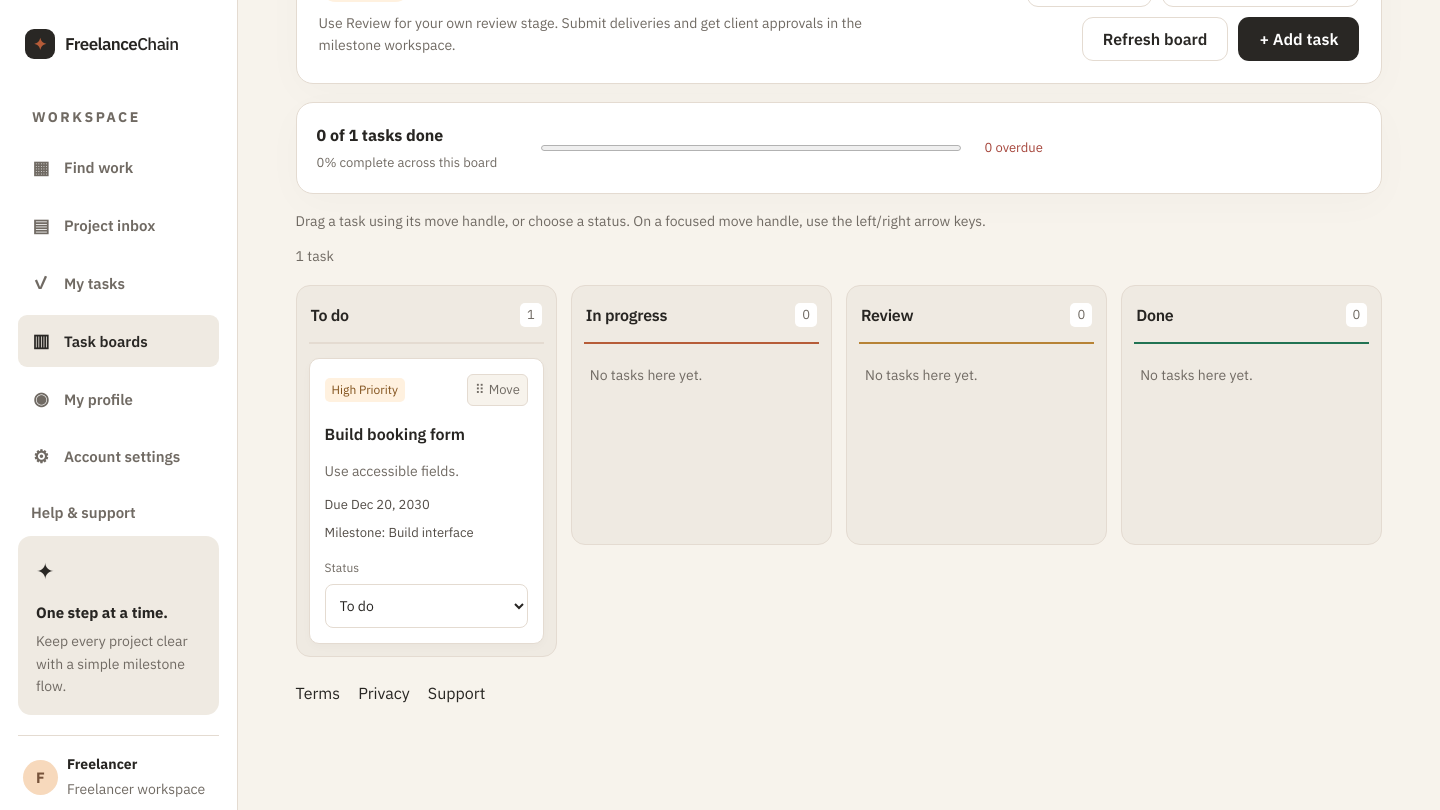
Scenario: private live updates defer while editing and preserve an unsaved draft
The width and height of the screenshot is (1440, 810).
(page scrolled)
Step 1. Click the button "Build booking form" → (426, 434), box [325,418,528,450]
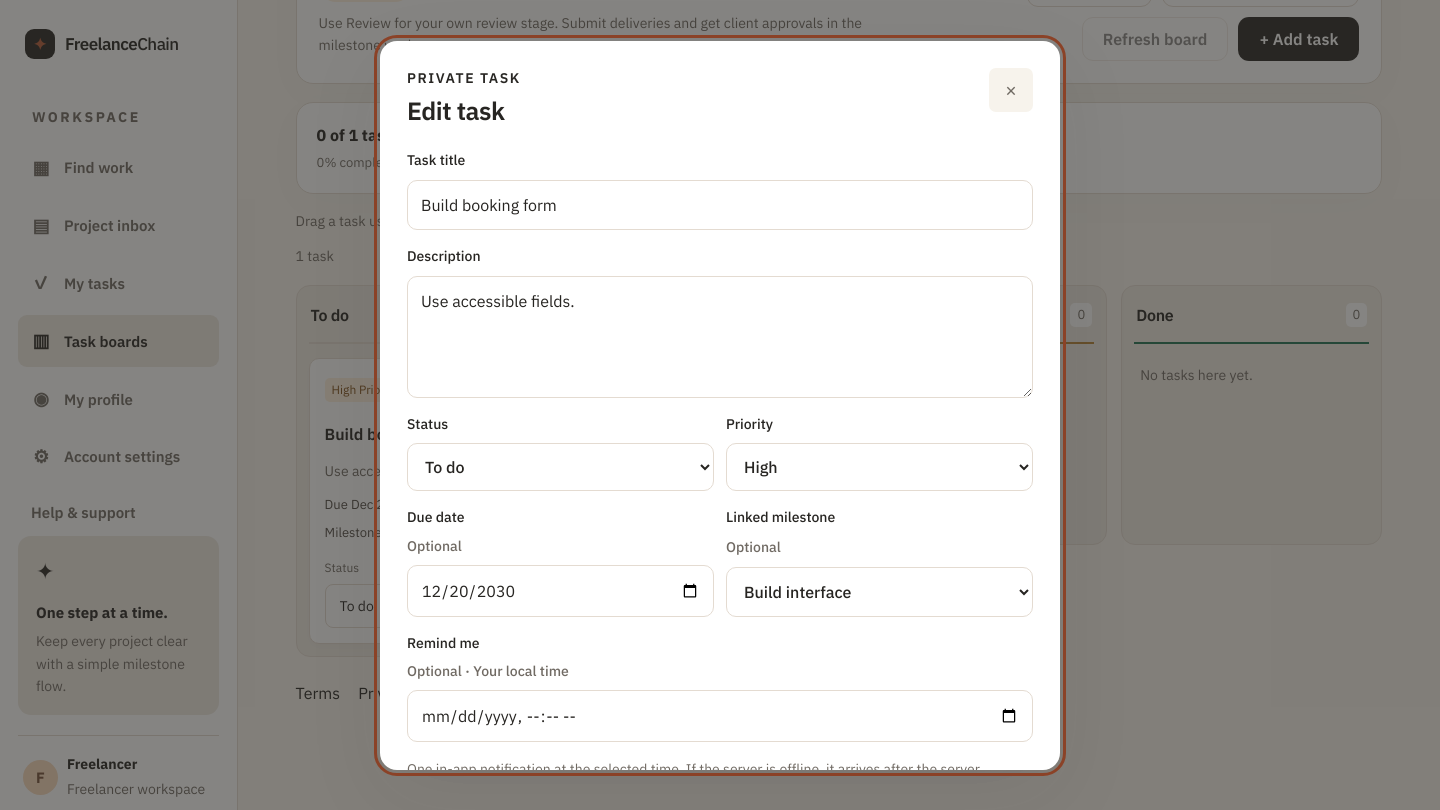
Step 2. Replace the text in the field labelled "Task title" with "My unsaved title" → (720, 205), box [407,180,1033,230]
(page scrolled)
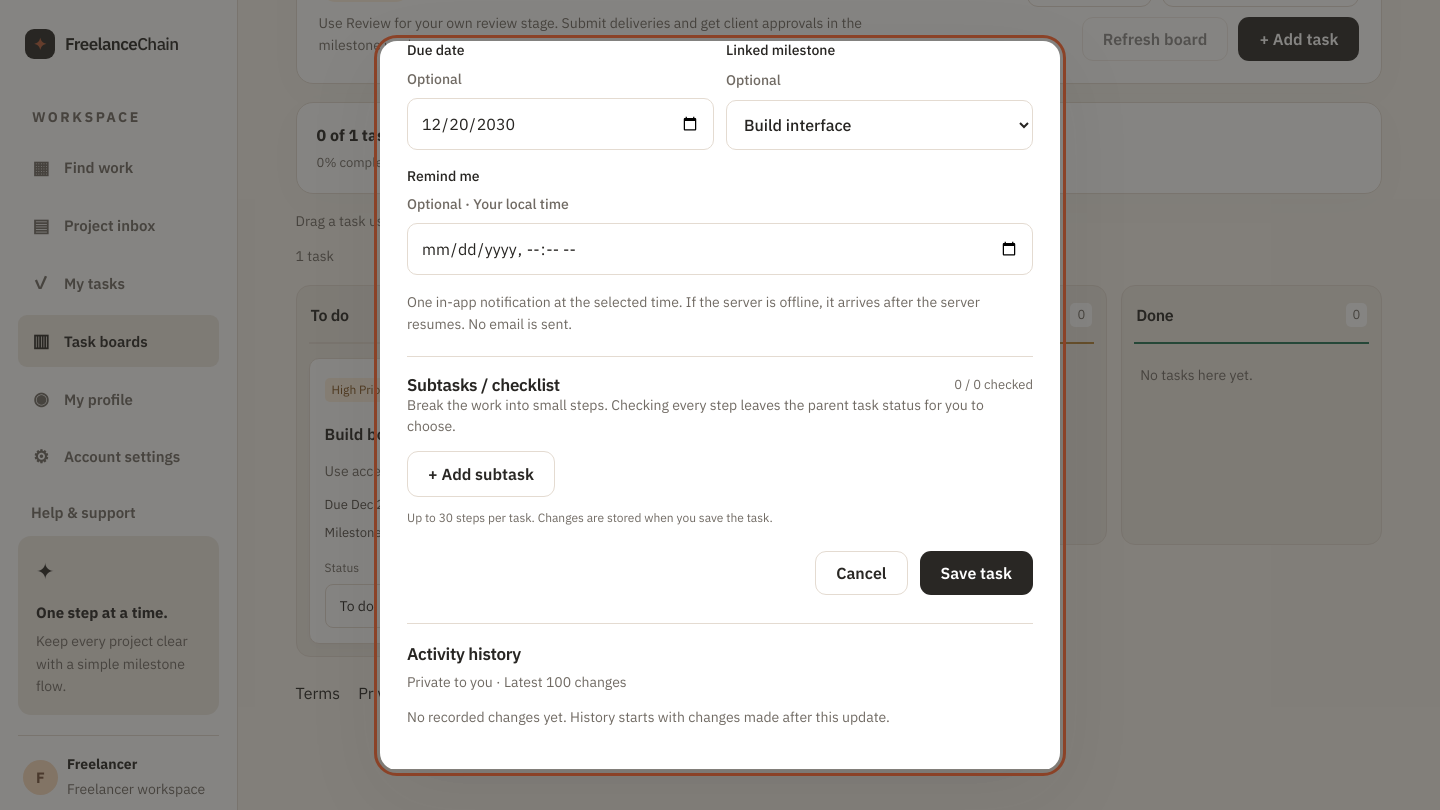
Step 3. Click the button "Cancel" → (861, 573), box [815,551,908,595]
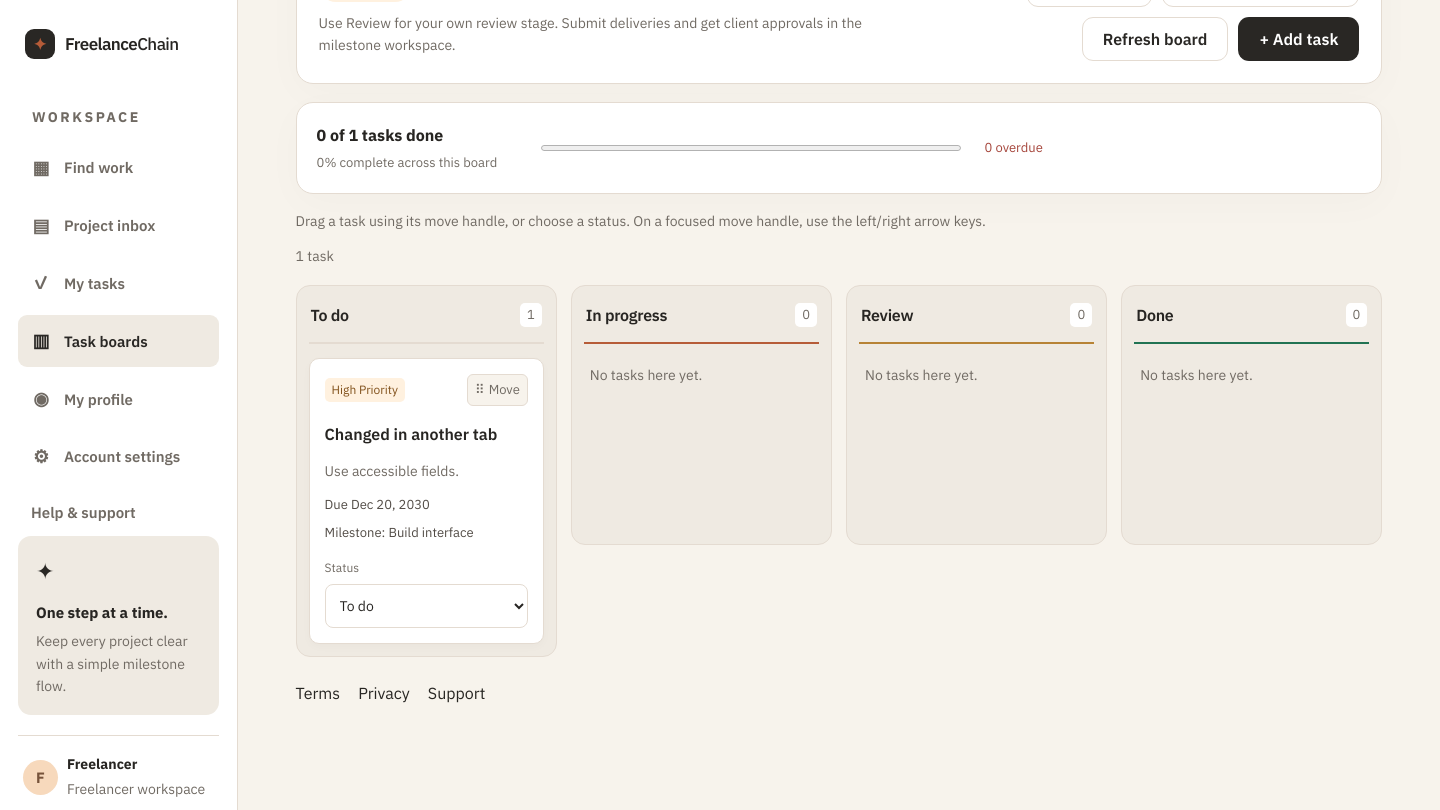
Expected: the element "Changed in another tab" is shown, [309,358,544,644]
